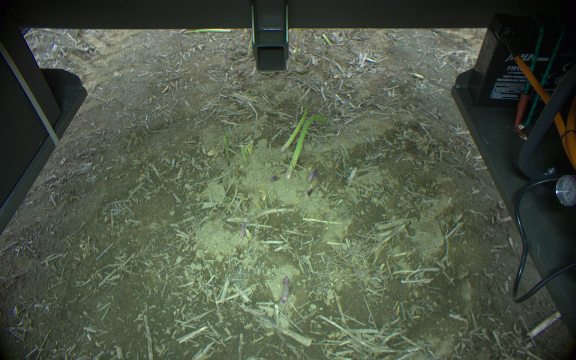aspa: (286, 114, 326, 180), (279, 108, 308, 153), (279, 273, 292, 305), (310, 166, 322, 192), (183, 29, 236, 34), (236, 220, 249, 240)
